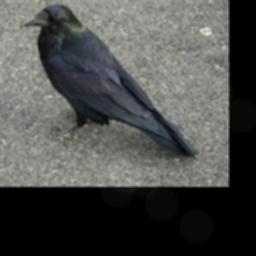Crow: (21, 4, 200, 160)
